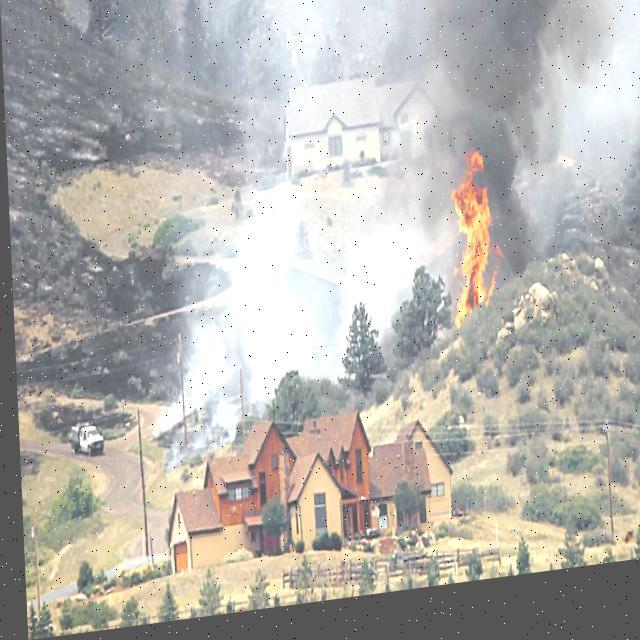Fire: (444, 160, 496, 341)
